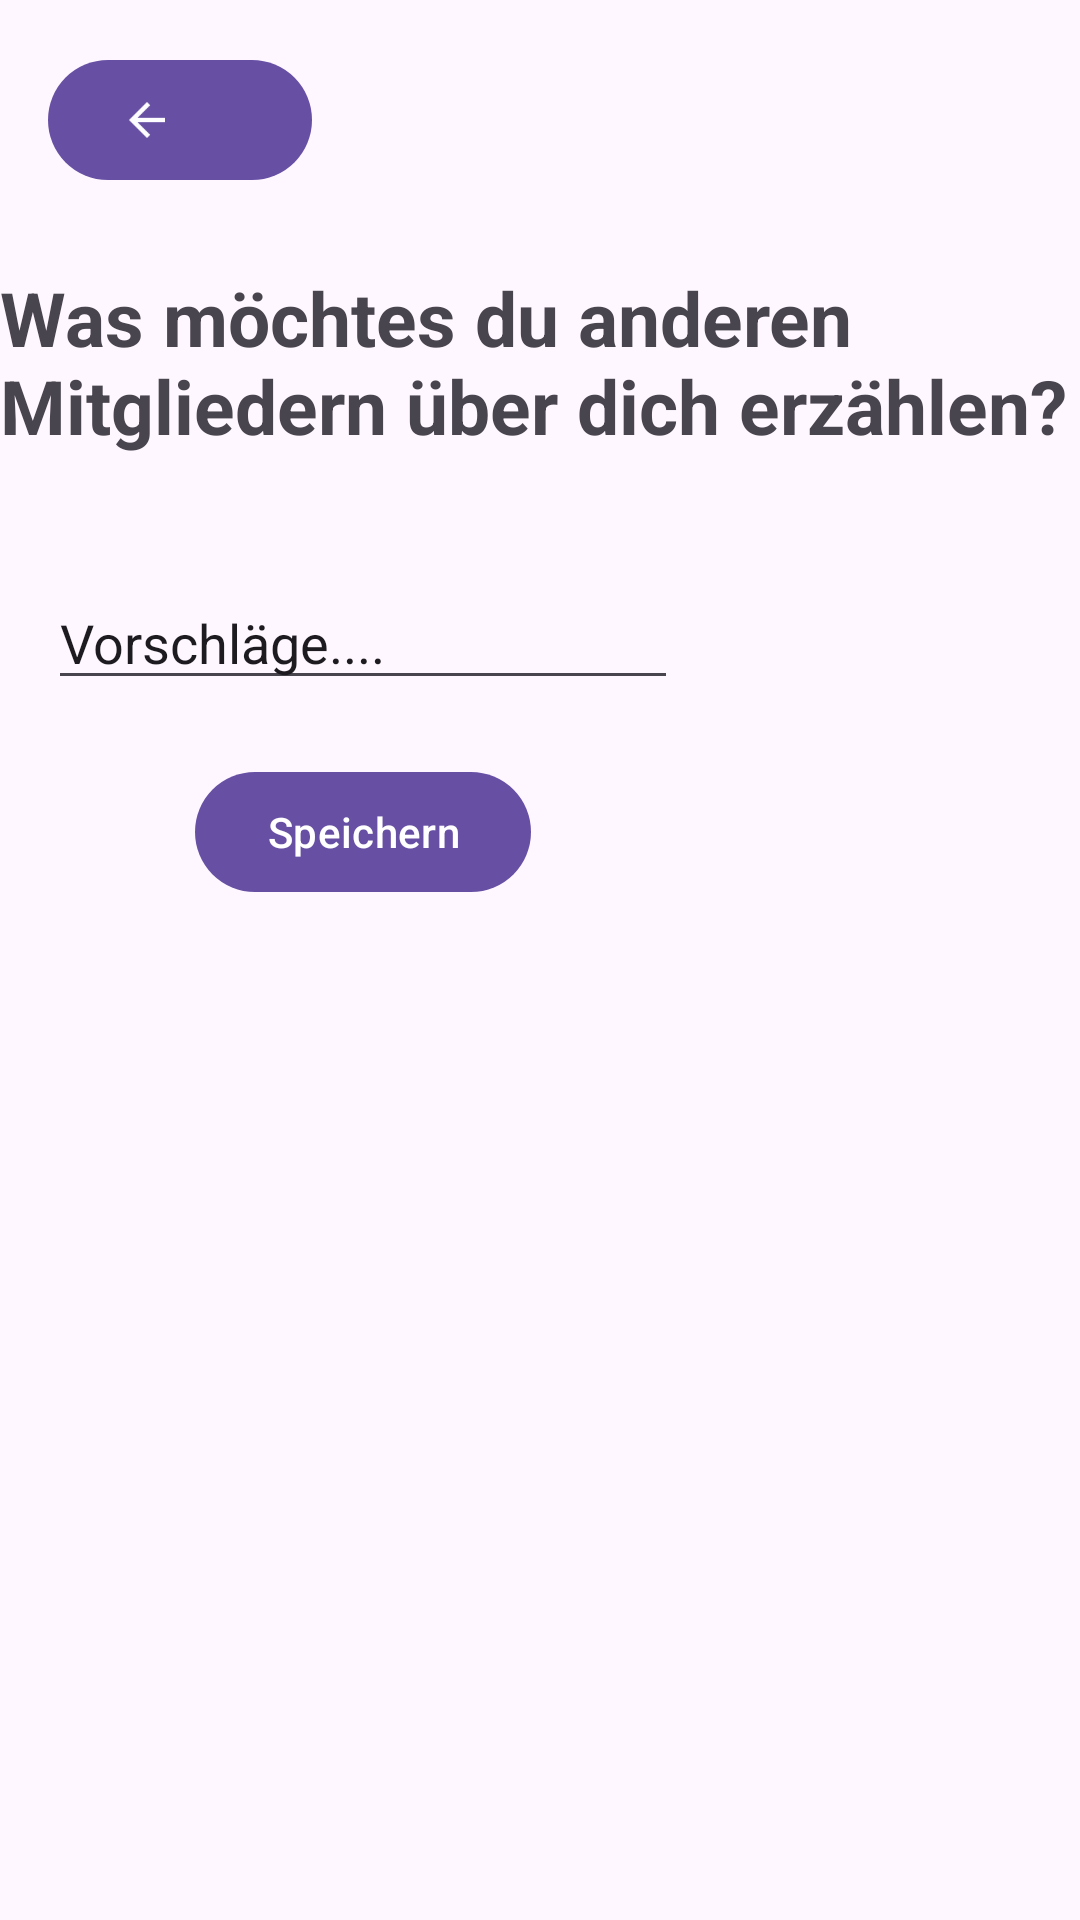

Named icons in this screenshot (1080px×1920px) and their bounding boxes, (x1, y1, x2, y2):
back: (48, 60, 312, 180)
